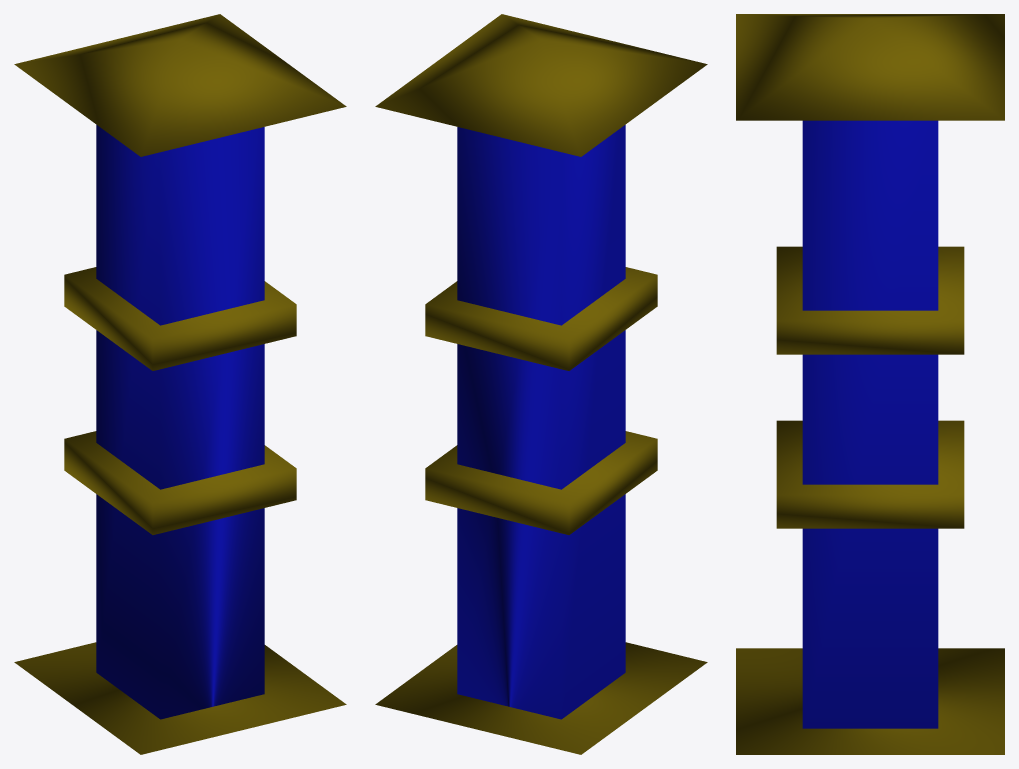
The model's file is pillarlowpoly.glb.
3 renders of one model, left to right at view 1: azimuth 30°, elevation 25°; view 2: azimuth 150°, elevation 25°; view 3: azimuth 270°, elevation 25°, orthographic. The views are drawn at different scales.
Parts seen in each view (by area): view 1: Pillar; view 2: Pillar; view 3: Pillar.
Boxes of the visible parts, box(x1,y1,x2,y2) form: Pillar: box(14, 14, 346, 754); Pillar: box(375, 14, 707, 754); Pillar: box(736, 14, 1004, 754).
Bounding box in the file's own units: 1.35 × 4.3 × 1.43.
